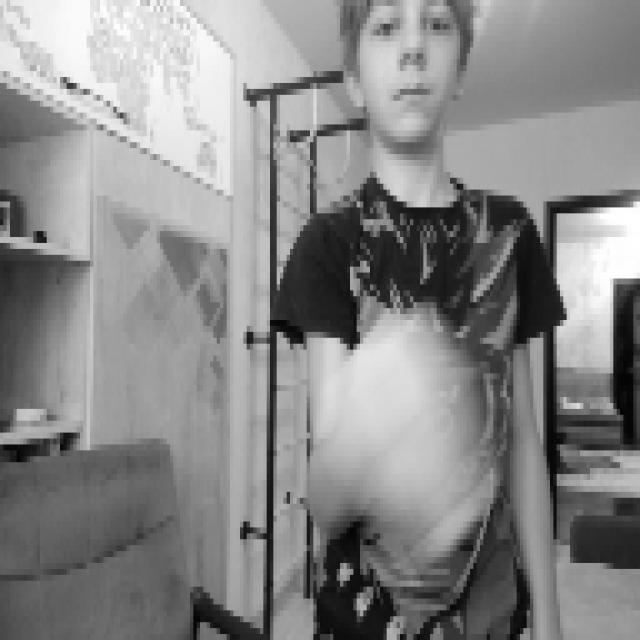left_click: (320, 302, 490, 557)
